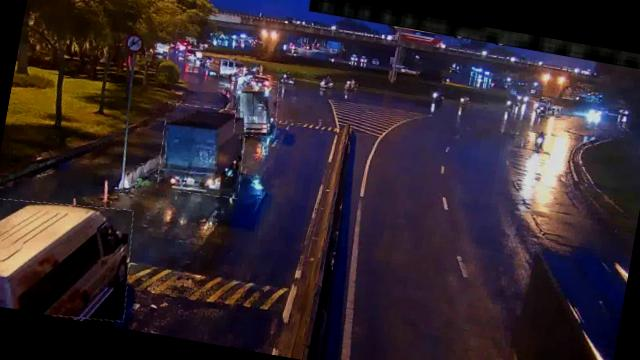Bike: (535, 130, 548, 150)
Bus: (0, 188, 140, 326)
Truck: (154, 100, 251, 200), (229, 75, 282, 140)
